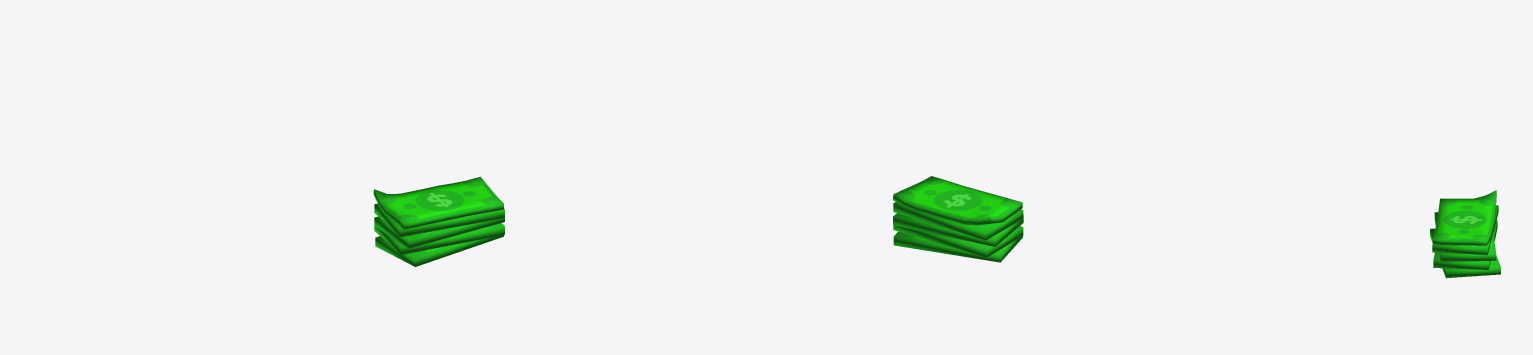
Rendered from props.fbx.
3 renders of one model, left to right at view 1: azimuth 30°, elevation 25°; view 2: azimuth 150°, elevation 25°; view 3: azimuth 270°, elevation 25°, orthographic. The views are drawn at different scales.
Visible parts, largest first — view 1: Cube.023; view 2: Cube.023; view 3: Cube.023.
Part boxes in pixels (x1,y1,x2,y2): Cube.023: [373, 176, 504, 266]; Cube.023: [893, 176, 1023, 262]; Cube.023: [1430, 190, 1500, 278].
Bounding box in the file's own units: 4.1 × 1.07 × 0.68.
